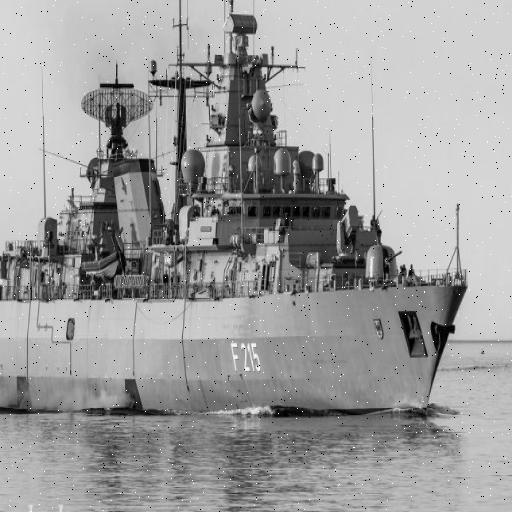Fragata: (1, 1, 471, 426)
